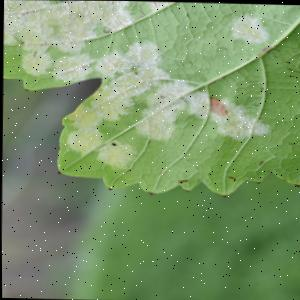Folha: (0, 0, 300, 198)
Fungo: (2, 0, 166, 42), (94, 41, 160, 121), (62, 124, 136, 169), (205, 95, 270, 141), (131, 93, 185, 140), (156, 76, 210, 121), (54, 39, 93, 83), (227, 12, 268, 43), (94, 140, 136, 169), (17, 49, 53, 76), (208, 96, 227, 114), (99, 25, 110, 32), (251, 179, 263, 185), (291, 180, 300, 188), (225, 175, 235, 181), (218, 194, 230, 199), (176, 179, 186, 183), (156, 93, 164, 98), (53, 170, 61, 175), (256, 160, 262, 166), (146, 191, 154, 195), (298, 49, 300, 62), (108, 142, 114, 146), (105, 187, 111, 190)
